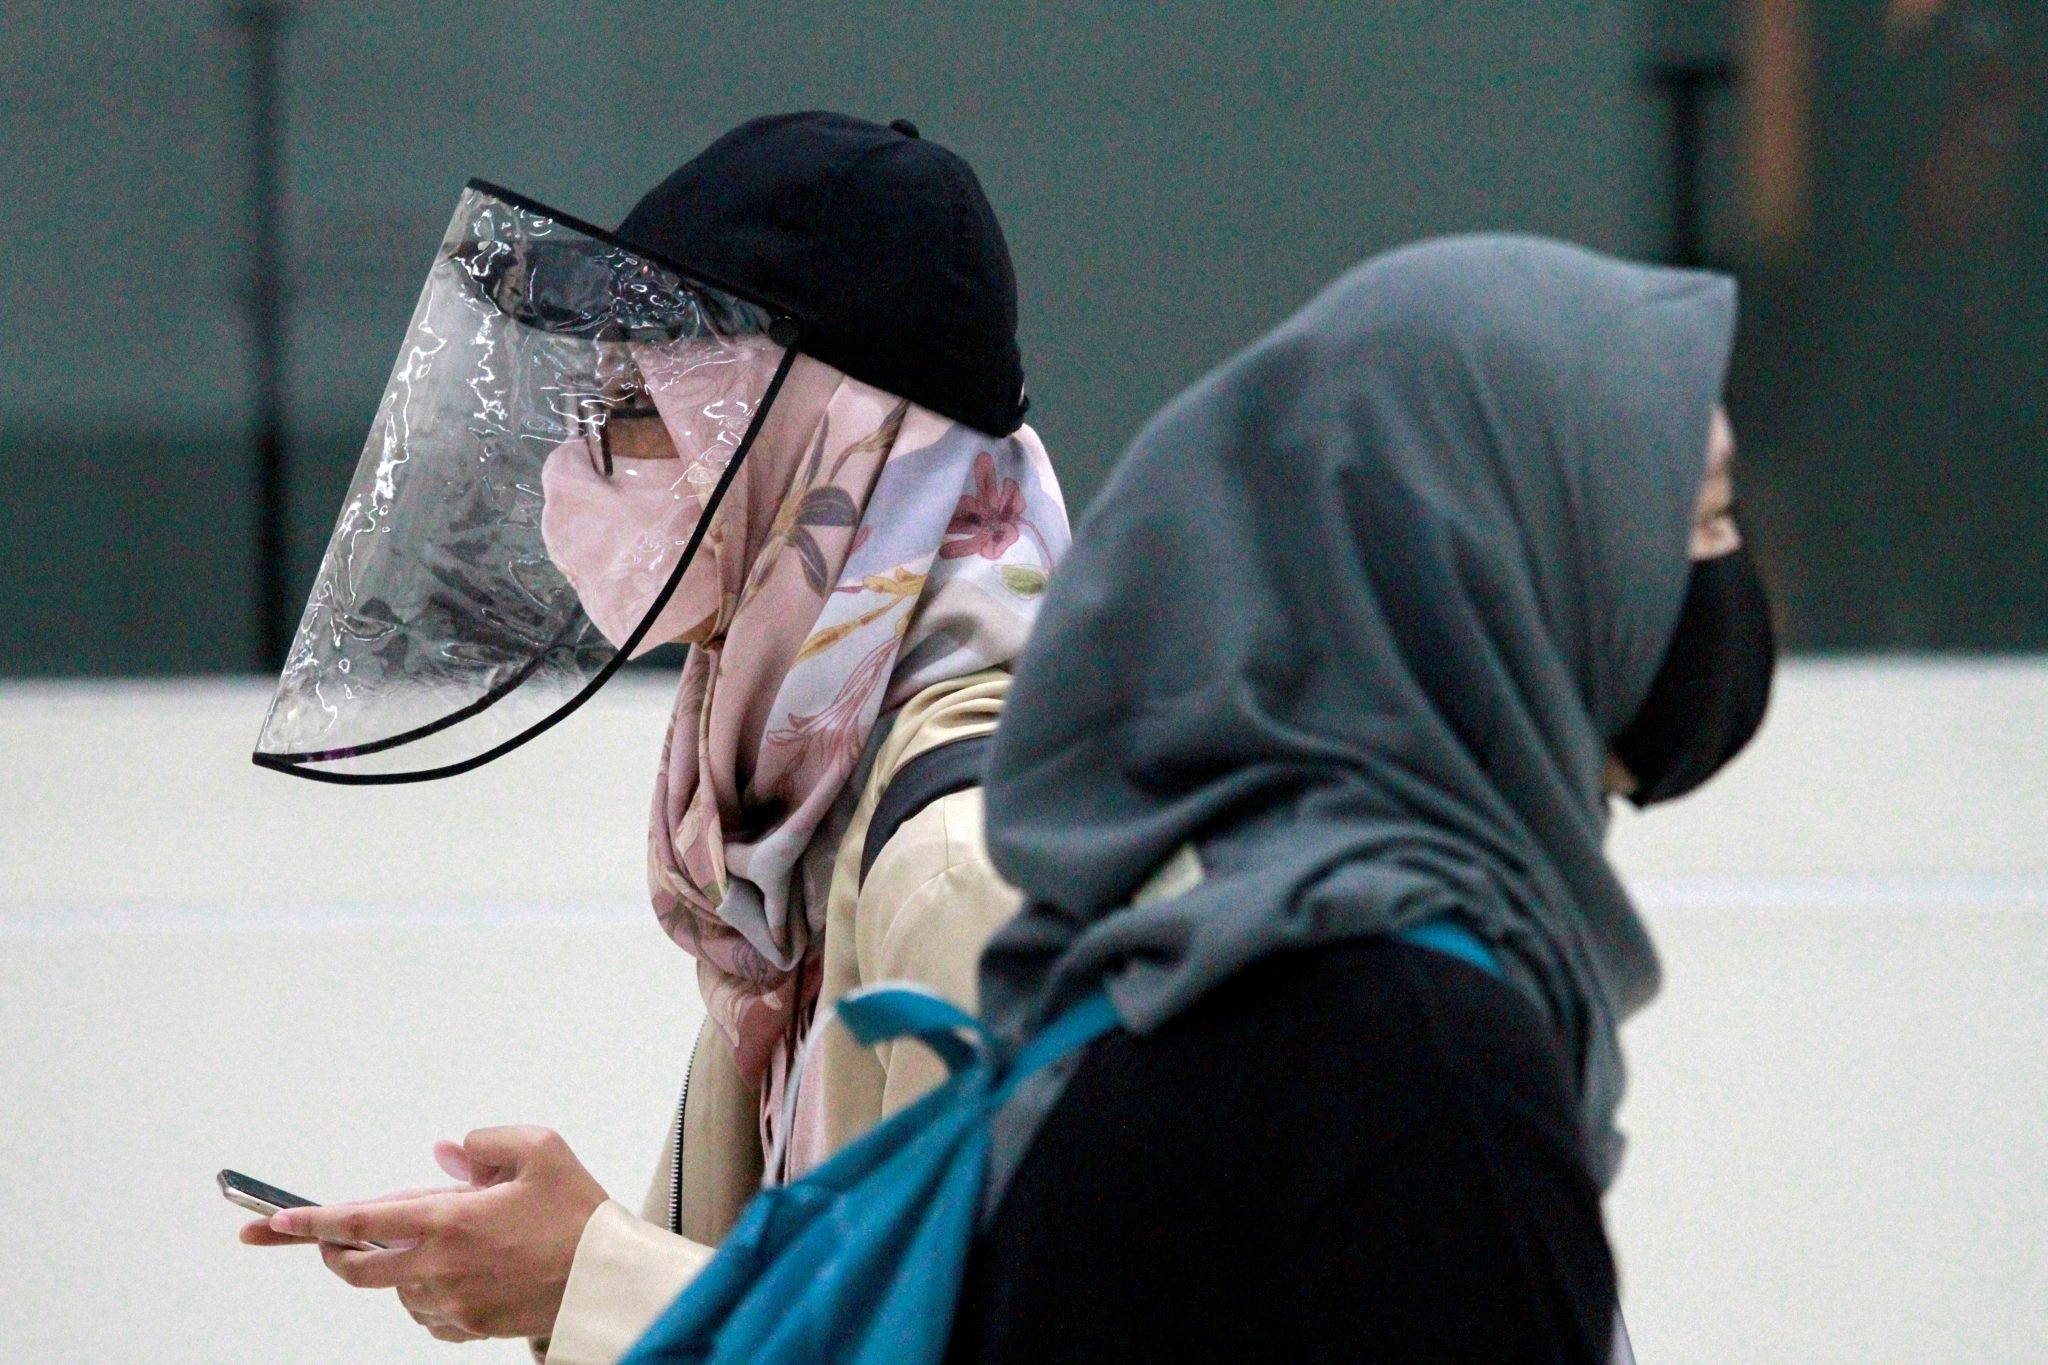Face_Shield: (248, 168, 812, 791)
with_mask: (1609, 380, 1789, 815), (530, 344, 737, 668)
